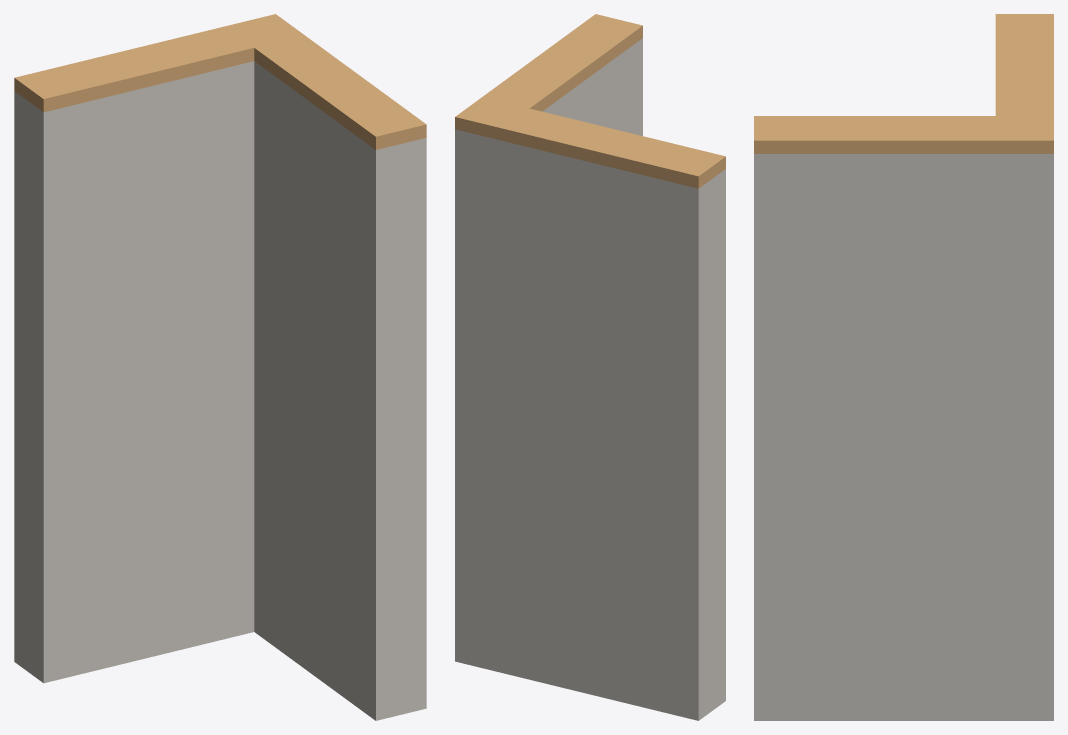
File: raum_wand_ecke.glb
3 renders of one model, left to right at view 1: azimuth 30°, elevation 25°; view 2: azimuth 150°, elevation 25°; view 3: azimuth 270°, elevation 25°, orthographic. The views are drawn at different scales.
Parts seen in each view (by area): view 1: raum_wand_ecke; view 2: raum_wand_ecke; view 3: raum_wand_ecke.
Boxes of the visible parts, bbox=[...] form: raum_wand_ecke: bbox=[14, 14, 426, 720]; raum_wand_ecke: bbox=[455, 14, 725, 720]; raum_wand_ecke: bbox=[754, 14, 1053, 720].
Size of the model in its own units: 1.03 by 2.2 by 1.03.
